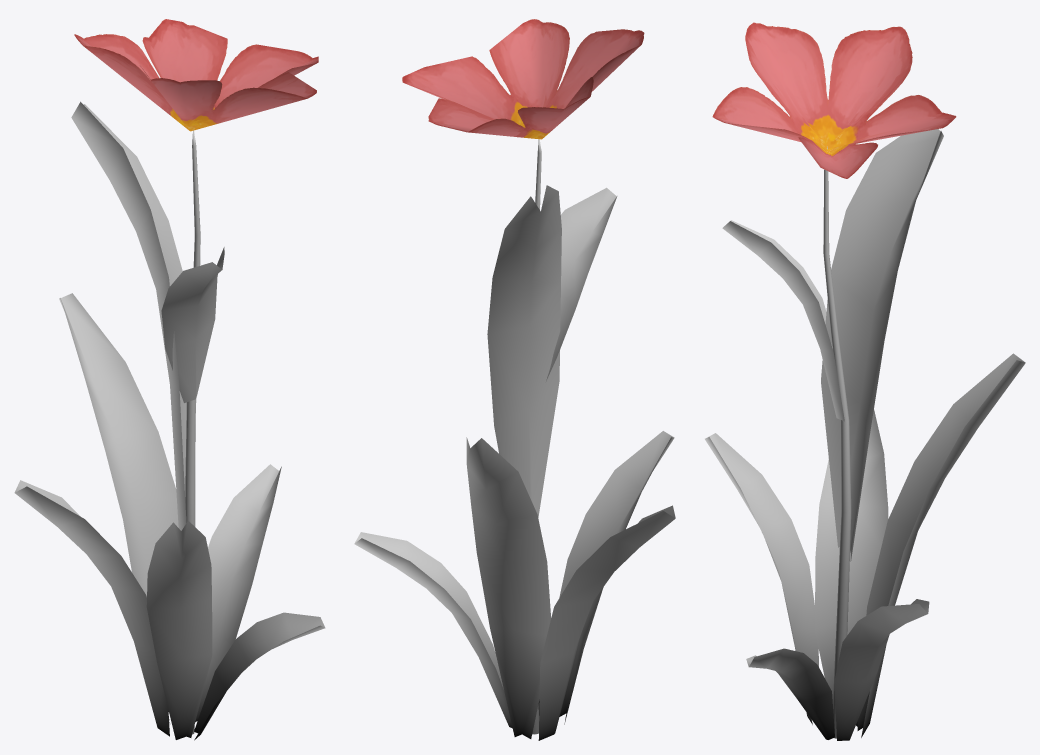
File: Flower_Single.gltf
3 views of the same model, side by side, from view 1: azimuth 30°, elevation 25°; view 2: azimuth 150°, elevation 25°; view 3: azimuth 270°, elevation 25° (orthographic). The views are drawn at different scales.
Parts seen in each view (by area): view 1: Flower_3_Single; view 2: Flower_3_Single; view 3: Flower_3_Single.
Boxes of the visible parts, x1=… form: Flower_3_Single: x1=14, y1=19, x2=325, y2=740; Flower_3_Single: x1=354, y1=19, x2=675, y2=740; Flower_3_Single: x1=705, y1=22, x2=1025, y2=740.
Bounding box in the file's own units: 0.9066 × 2.07 × 0.8775.
